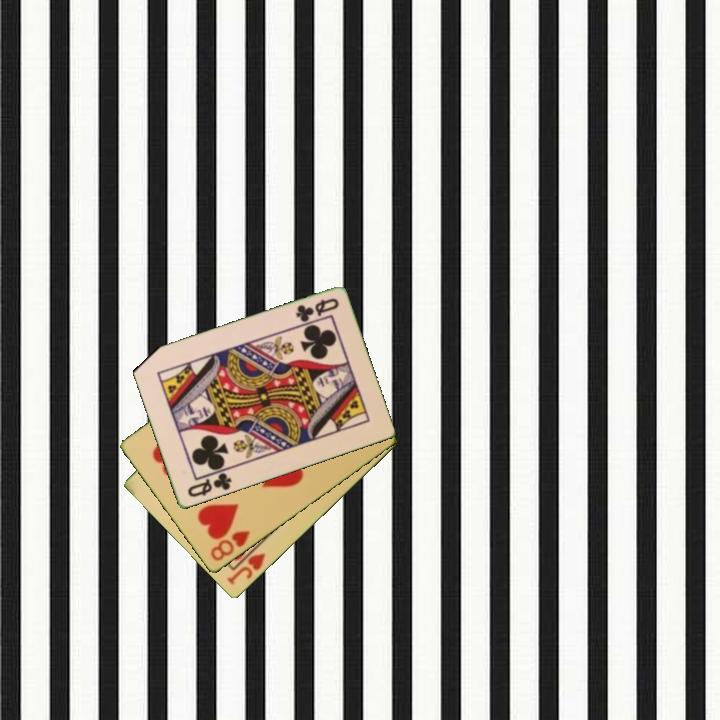8h: (207, 527, 253, 564)
Jh: (223, 549, 269, 588)
Qc: (184, 466, 234, 500), (292, 295, 342, 325)
